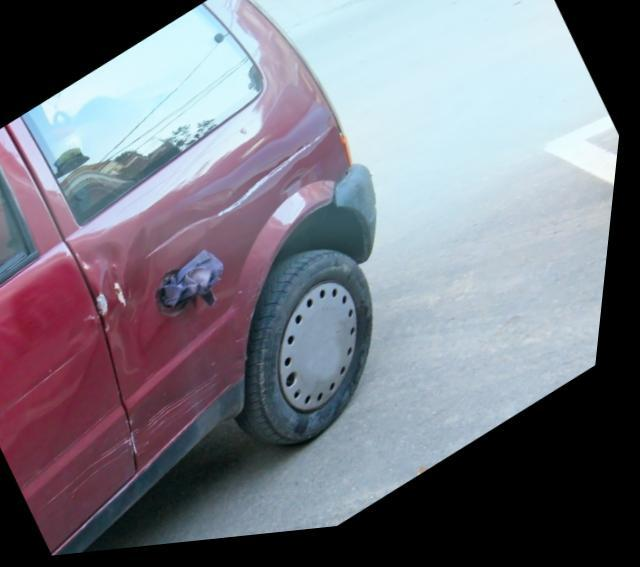dent: (85, 231, 159, 376)
scratch: (157, 131, 333, 258), (0, 337, 105, 428), (139, 375, 228, 458), (58, 434, 145, 506)
